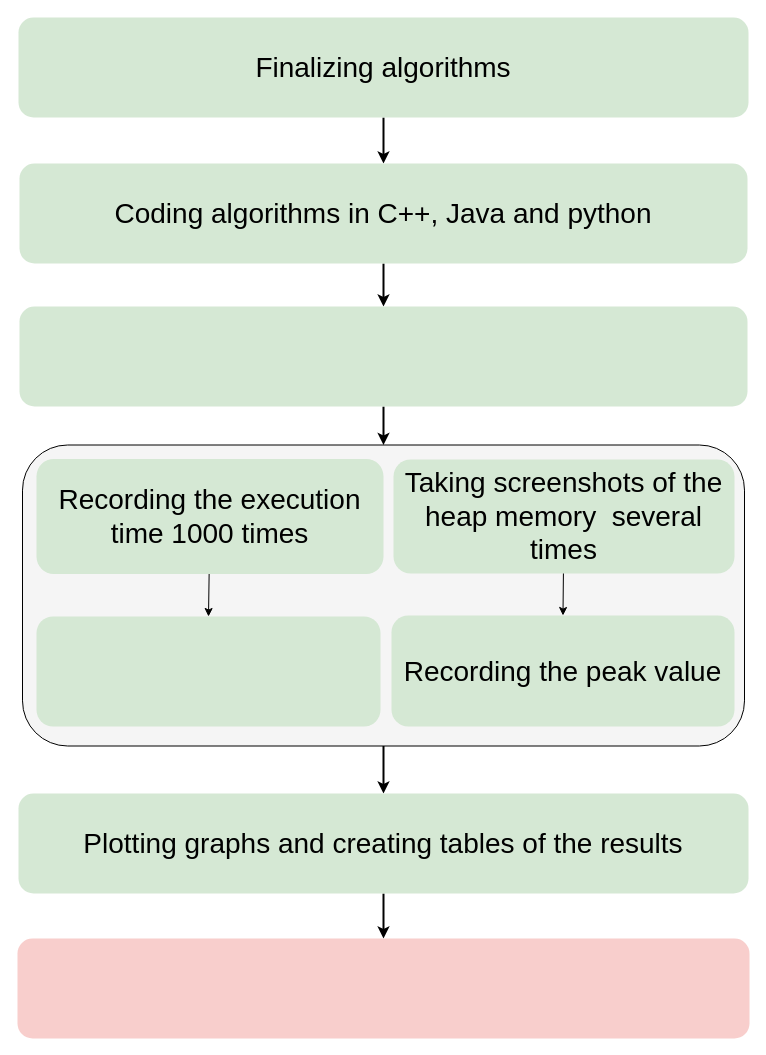
Image size: 766x1055. Some labels were removed from this diagram. Here are the shapes that lost their labels. From the top down, the centre of each, then its label:
the point at 383,356: Compiling the codes in their respective compilers
the point at 208,671: Computing average of execution time
the point at 383,988: Concluding the experiment with practical results
